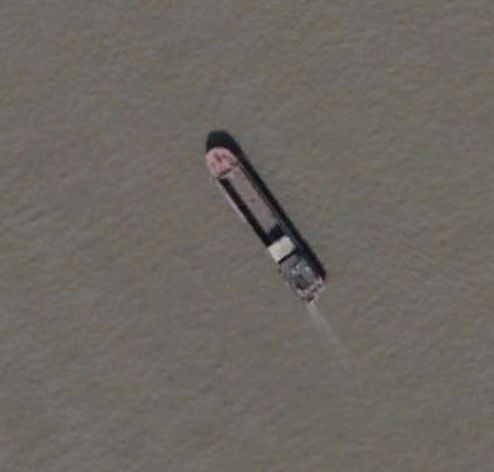boat: (203, 139, 330, 306)
